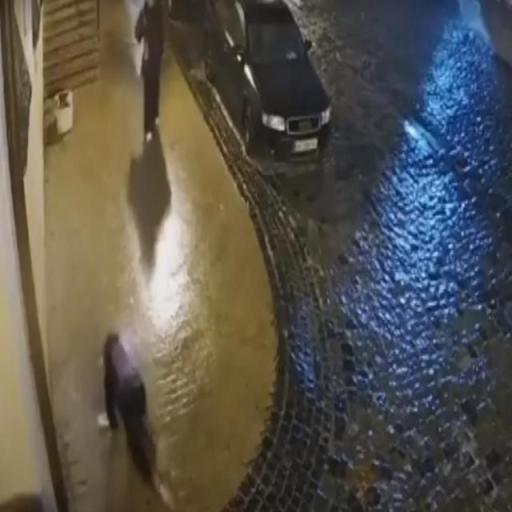Fall: (95, 326, 179, 512)
